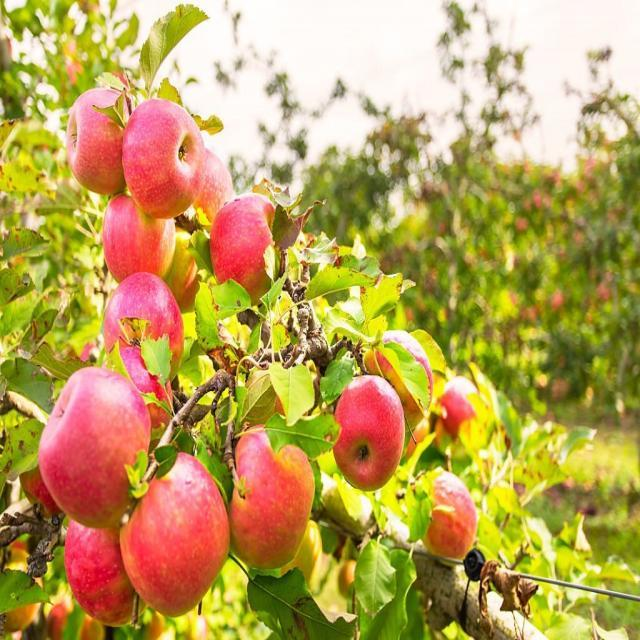Red Apple: (124, 451, 232, 614), (35, 370, 150, 517), (228, 421, 319, 573), (63, 501, 151, 622), (125, 97, 206, 214), (334, 371, 410, 491), (209, 194, 286, 300), (108, 271, 183, 378), (62, 87, 134, 193), (362, 328, 437, 428), (104, 192, 179, 274), (420, 472, 474, 555), (439, 371, 482, 451)
